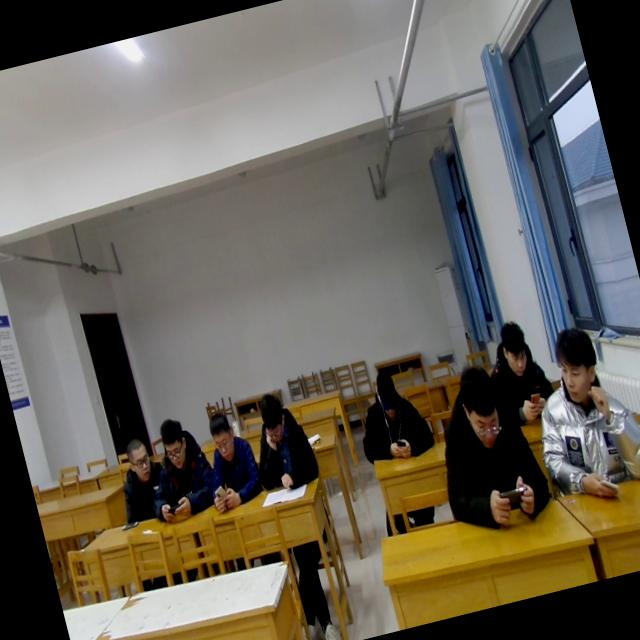down: (450, 358, 510, 454), (494, 318, 537, 382), (152, 411, 195, 474), (252, 386, 292, 448), (368, 364, 407, 424), (204, 410, 243, 468)
sit: (513, 312, 640, 514), (418, 355, 556, 539), (479, 313, 565, 429), (238, 384, 324, 498), (344, 362, 437, 466), (136, 411, 222, 522), (194, 407, 267, 513), (104, 429, 174, 524)
